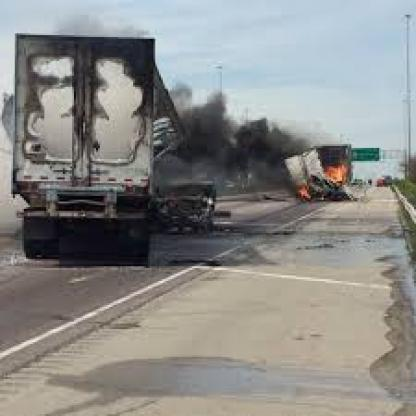fire: (266, 127, 376, 220)
